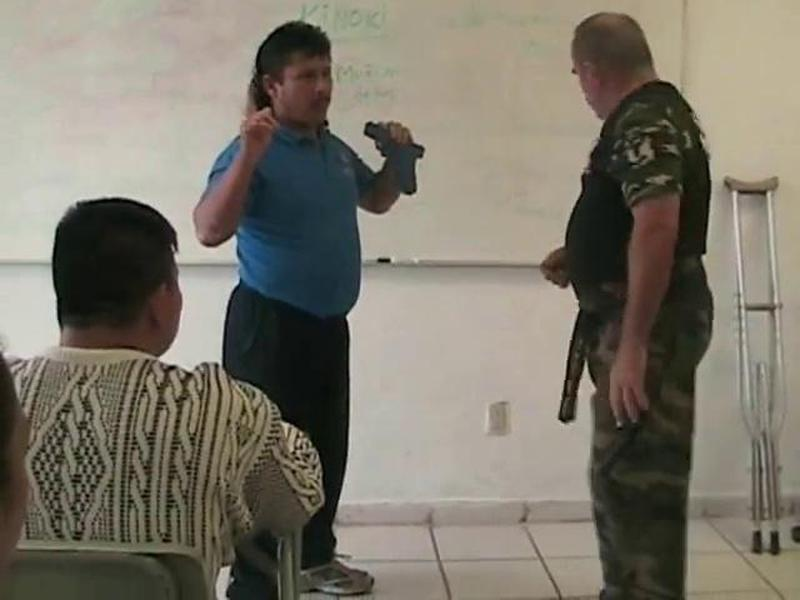Pistola: (357, 113, 444, 205)
